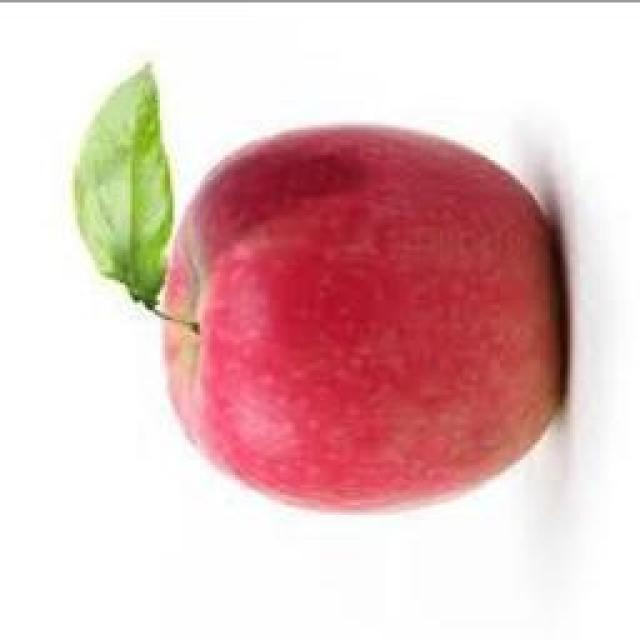Apple: (164, 126, 565, 508)
